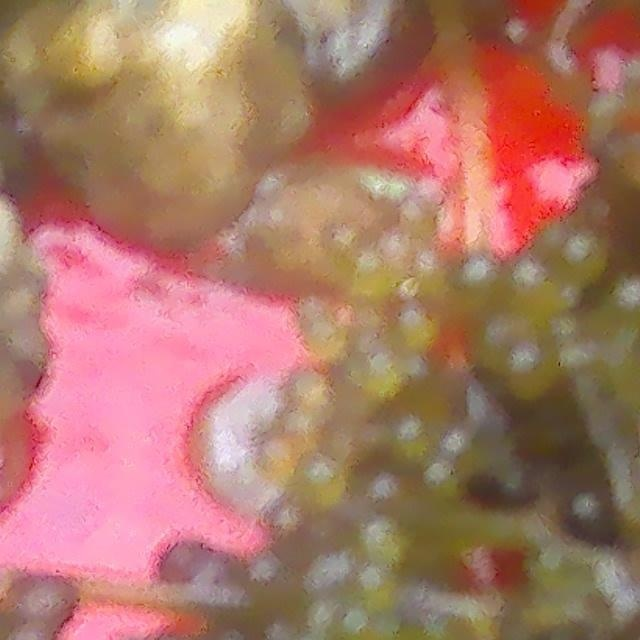SeaGrape: (451, 253, 511, 317), (507, 255, 560, 317), (8, 580, 73, 629), (511, 342, 564, 400), (154, 535, 210, 588), (249, 554, 299, 611), (566, 239, 604, 280)
